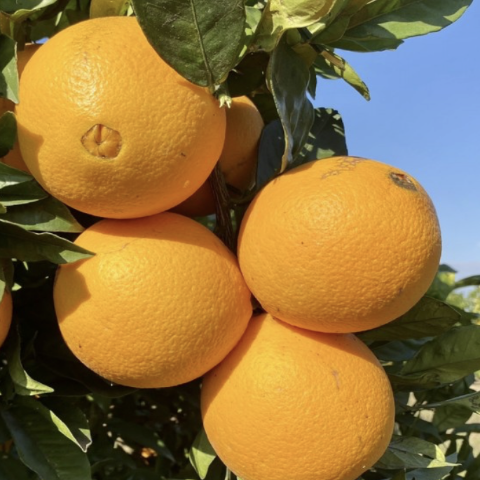orange: (7, 8, 250, 220), (171, 300, 420, 478), (37, 198, 258, 385), (237, 159, 465, 330)
